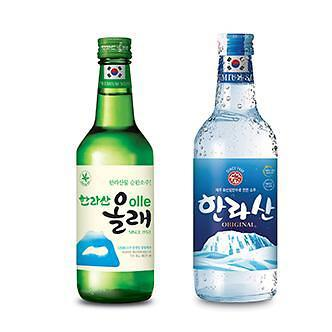soju: (72, 35, 279, 306)
